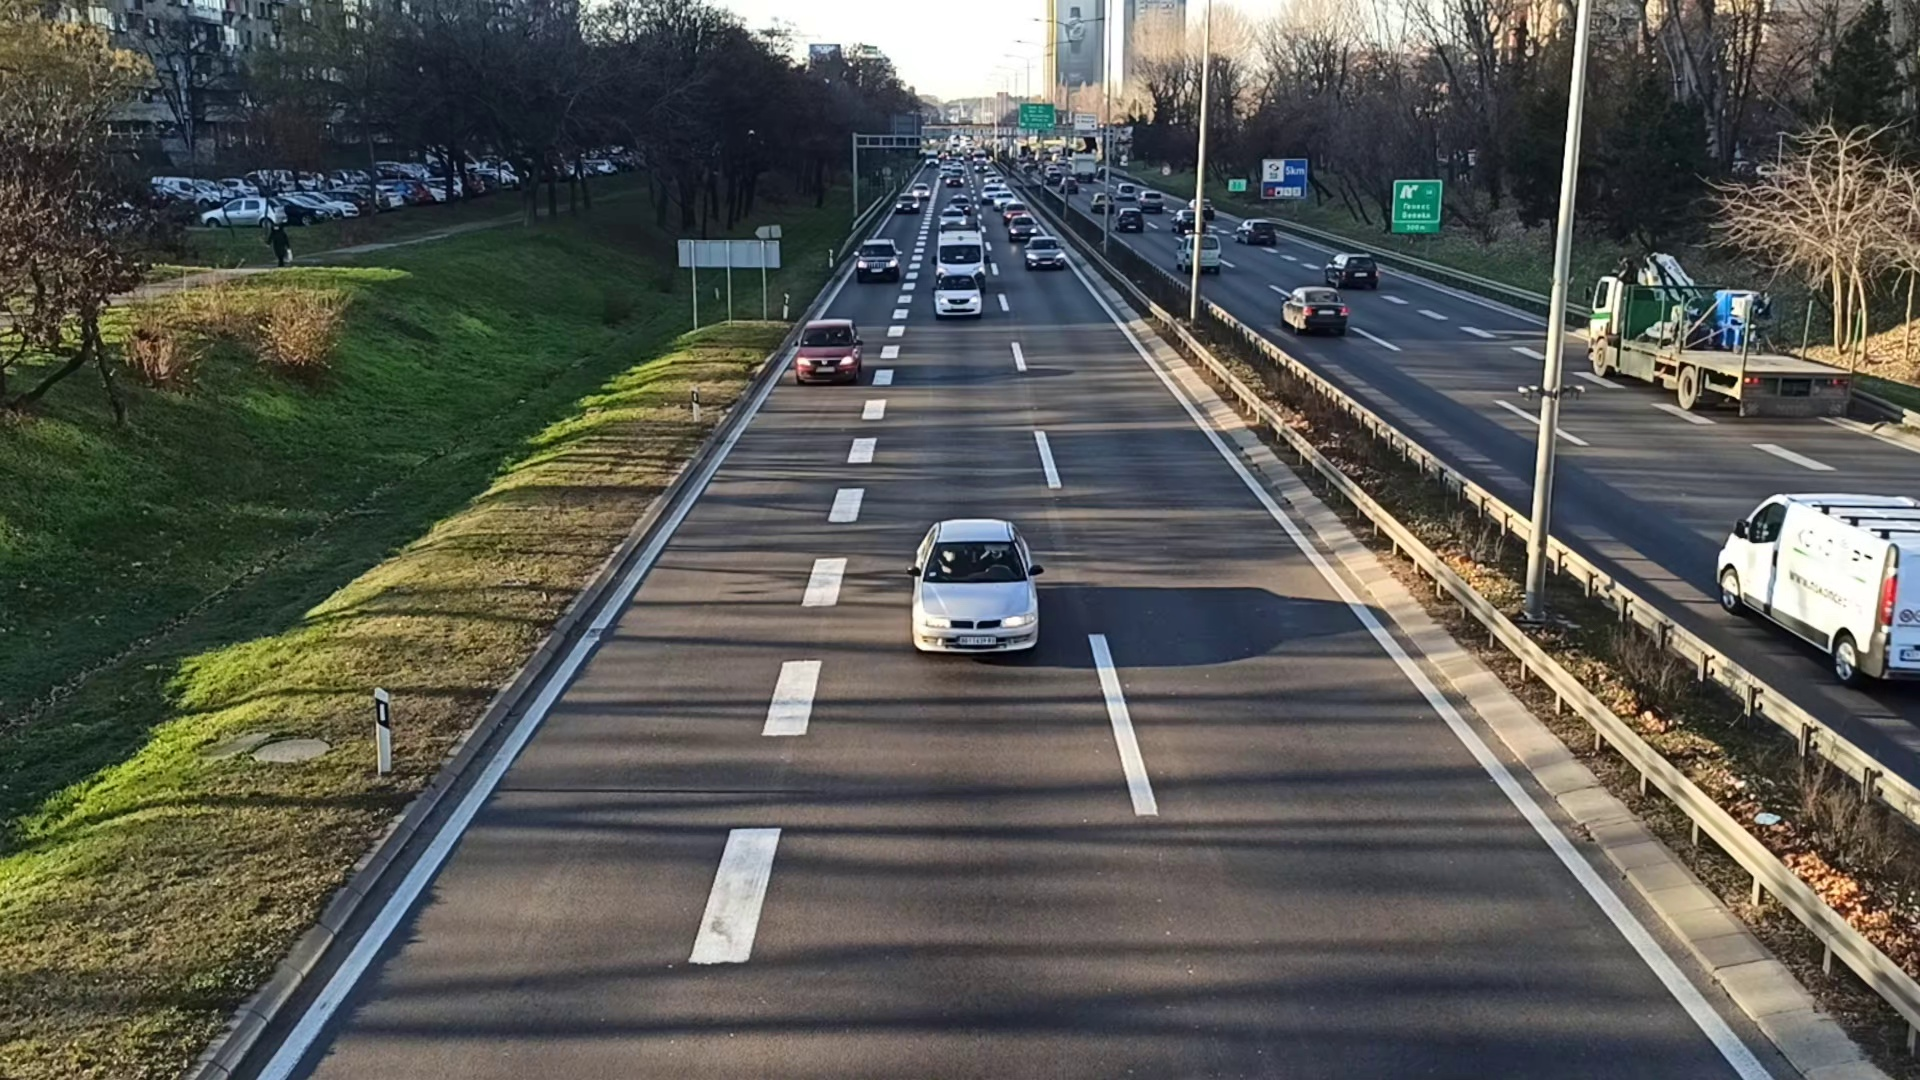car: (910, 518, 1043, 659), (795, 314, 862, 378), (1278, 282, 1350, 338), (1324, 251, 1378, 294), (855, 237, 903, 284), (934, 270, 978, 315), (1025, 237, 1065, 273), (1007, 215, 1036, 243), (938, 207, 965, 229), (891, 194, 919, 214), (910, 185, 931, 200)
truck: (1588, 253, 1851, 419)
van: (1713, 488, 1920, 684)
